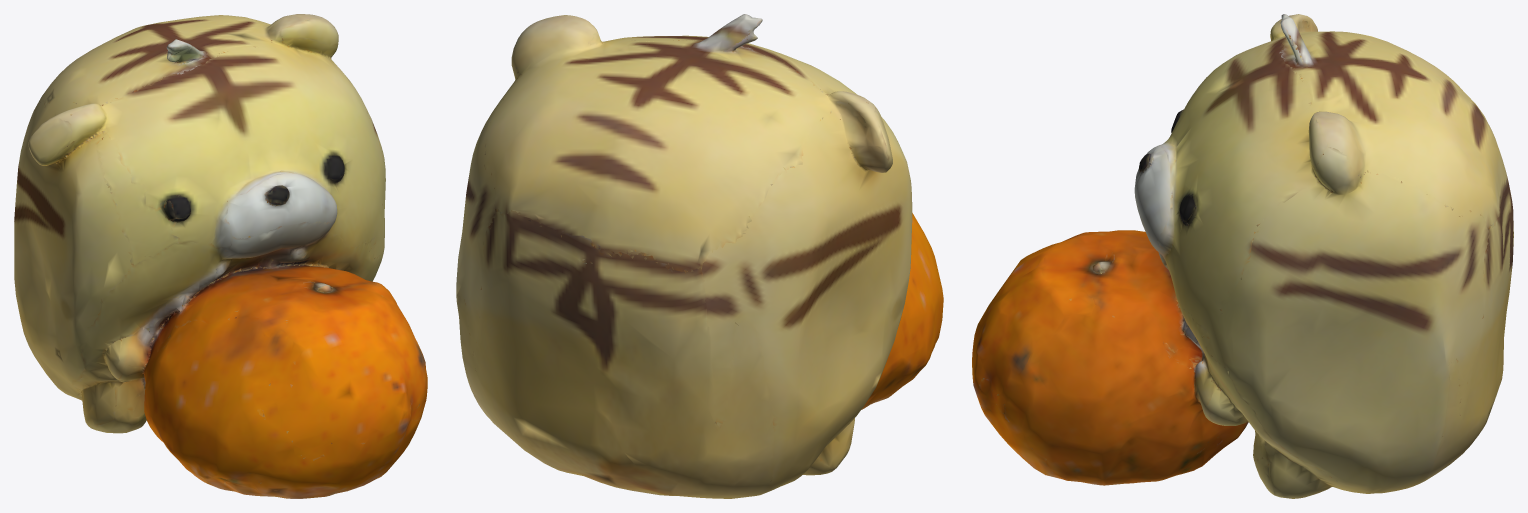
The model's file is OrangeHam.glb.
3 renders of one model, left to right at view 1: azimuth 30°, elevation 25°; view 2: azimuth 150°, elevation 25°; view 3: azimuth 270°, elevation 25°, orthographic. The views are drawn at different scales.
Size of the model in its own units: 1.54 by 1.68 by 2.
1 material, 1 textured.
